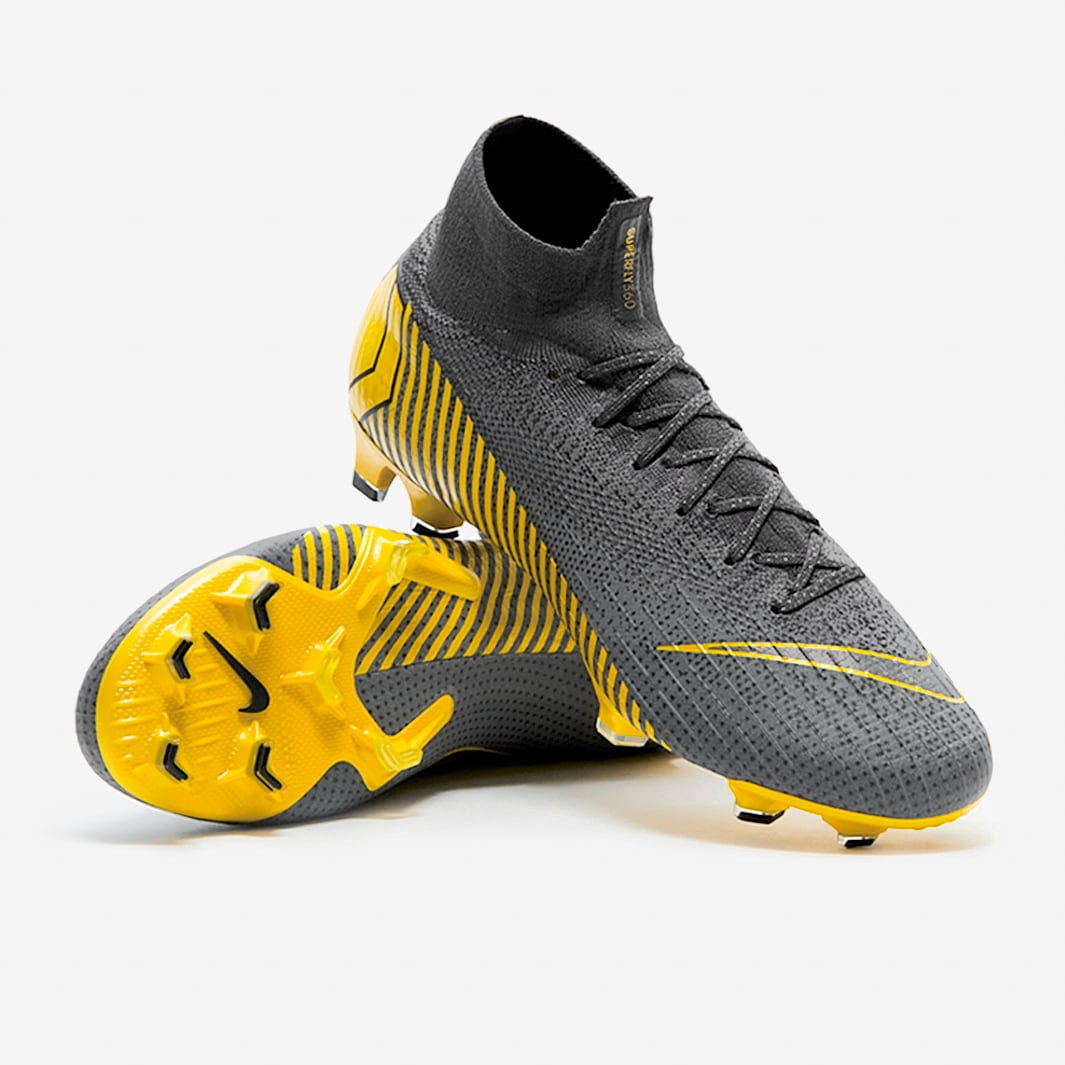football boots: (351, 121, 995, 846), (76, 526, 578, 826)
